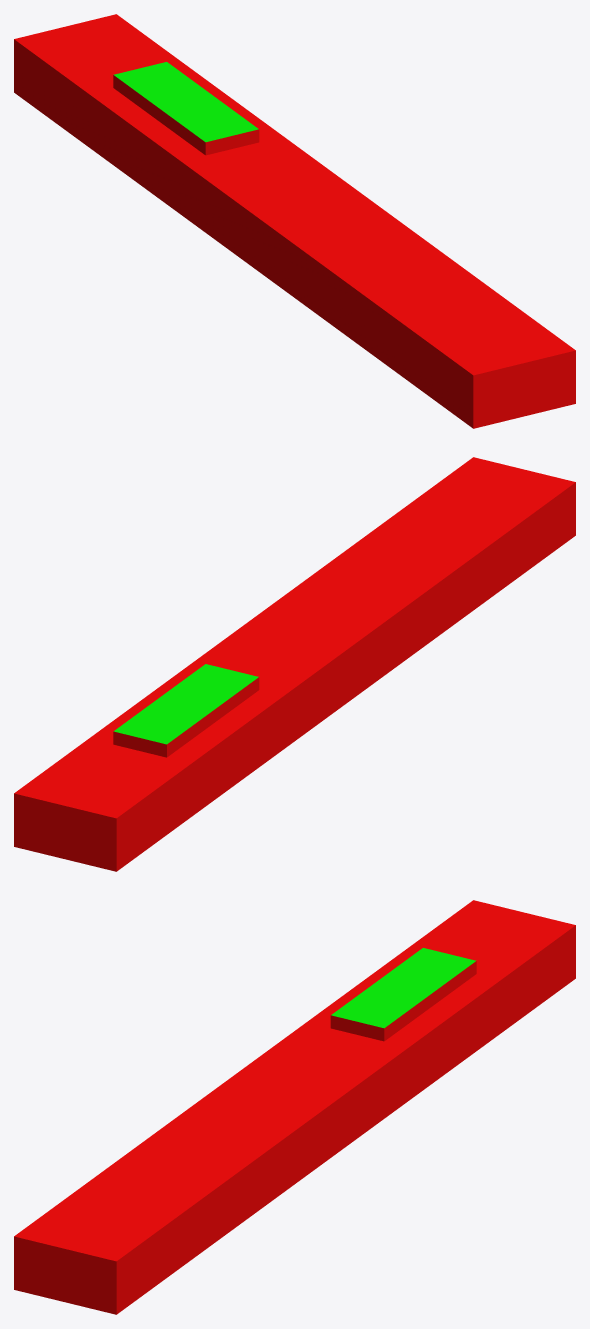
Rendered from labeled.obj.
The picture shows the model from 3 angles, top to bottom: view 1: azimuth 30°, elevation 25°; view 2: azimuth 150°, elevation 25°; view 3: azimuth 330°, elevation 25°; orthographic projection.
Size of the model in its own units: 0.0192 by 0.0119 by 0.1492.
